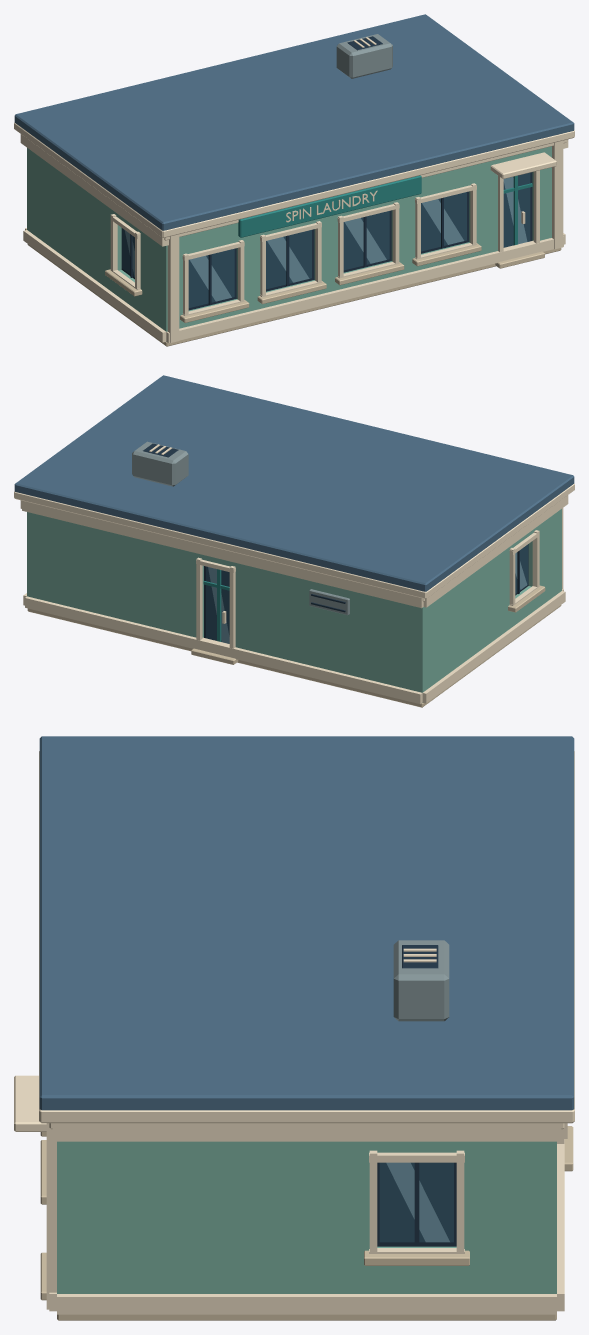
Rendered from spin_laundry.glb.
The picture shows the model from 3 angles, top to bottom: view 1: azimuth 30°, elevation 25°; view 2: azimuth 150°, elevation 25°; view 3: azimuth 270°, elevation 25°; orthographic projection. The views are drawn at different scales.
Parts seen in each view (by area): view 1: SpinLaundry_StaticMesh; view 2: SpinLaundry_StaticMesh; view 3: SpinLaundry_StaticMesh.
Part boxes in pixels (box(x1,y1,x2,y2)): SpinLaundry_StaticMesh: box(14, 14, 574, 346); SpinLaundry_StaticMesh: box(14, 375, 574, 707); SpinLaundry_StaticMesh: box(14, 736, 574, 1320).
Size of the model in its own units: 12.32 by 4.5 by 8.08.
